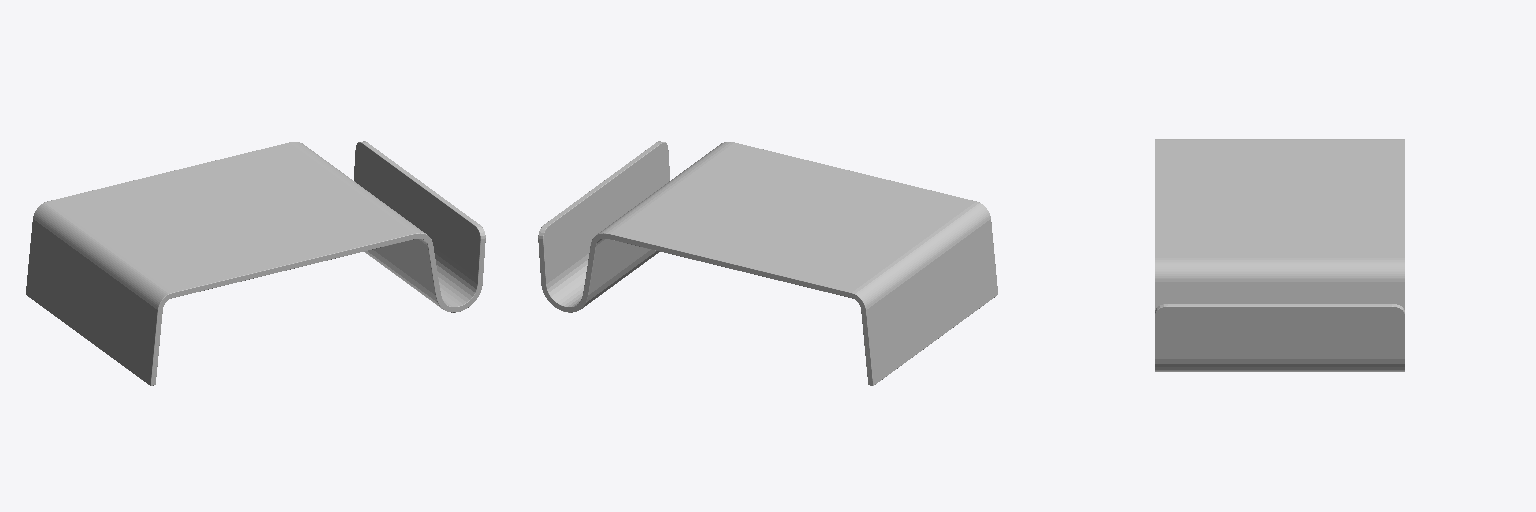
The model's file is coffee-table.obj.
The picture shows the model from 3 angles: view 1: azimuth 30°, elevation 25°; view 2: azimuth 150°, elevation 25°; view 3: azimuth 270°, elevation 25°; orthographic projection.
Parts seen in each view (by area): view 1: Kardiel_Scan_43_coffee_table.001; view 2: Kardiel_Scan_43_coffee_table.001; view 3: Kardiel_Scan_43_coffee_table.001.
Boxes of the visible parts, box(x1,y1,x2,y2) form: Kardiel_Scan_43_coffee_table.001: box(26, 141, 485, 385); Kardiel_Scan_43_coffee_table.001: box(538, 141, 997, 385); Kardiel_Scan_43_coffee_table.001: box(1155, 139, 1404, 371).
Size of the model in its own units: 1.15 by 0.2914 by 0.743.